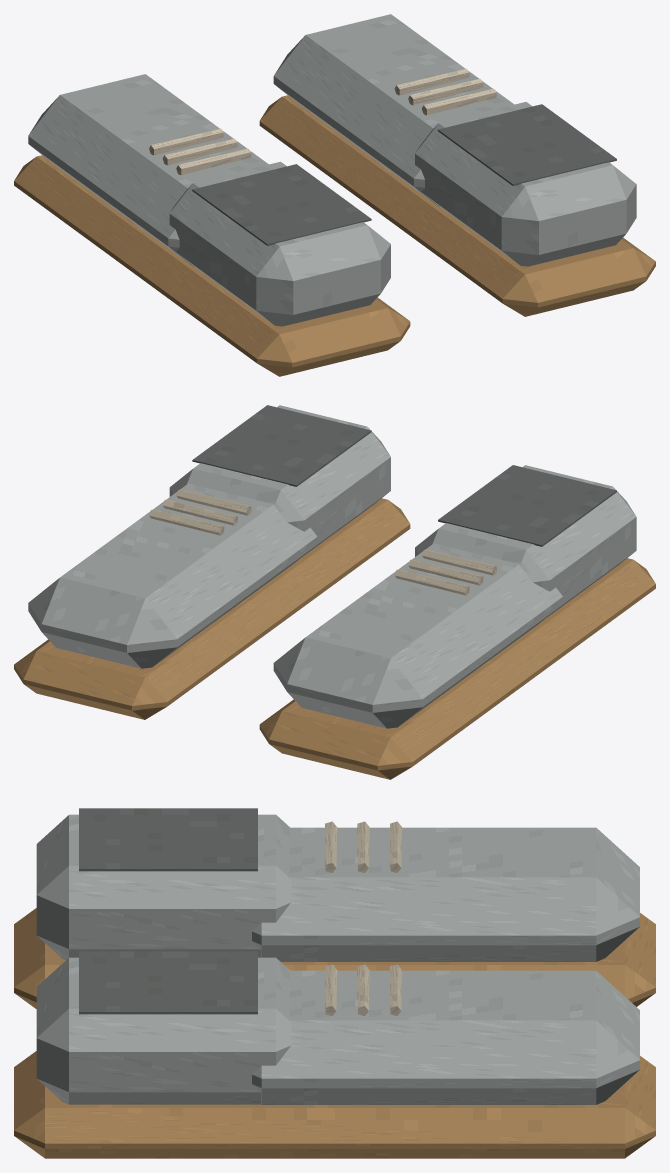
The model's file is shoes_birchbark.glb.
3 views of the same model, one above another, from view 1: azimuth 30°, elevation 25°; view 2: azimuth 150°, elevation 25°; view 3: azimuth 270°, elevation 25° (orthographic). The views are drawn at different scales.
Parts seen in each view (by area): view 1: block_shaped sole (×2), block_vamp and toe (×2), block_shaft (×2), block_opening (×2), block_lace (×6); view 2: block_vamp and toe (×2), block_shaped sole (×2), block_shaft (×2), block_opening (×2), block_lace (×6); view 3: block_vamp and toe (×2), block_shaft (×2), block_shaped sole (×2), block_opening (×2), block_lace (×6).
Boxes of the visible parts, x1,y1,x2,y2 form: block_shaped sole (×2): (14,95,655,376); block_vamp and toe (×2): (28,14,514,266); block_shaft (×2): (169,102,636,326); block_opening (×2): (192,104,616,245); block_lace (×6): (149,68,496,175); block_vamp and toe (×2): (28,483,562,728); block_shaped sole (×2): (14,498,655,779); block_shaft (×2): (169,405,636,616); block_opening (×2): (192,405,616,546); block_lace (×6): (149,489,496,595); block_vamp and toe (×2): (252,827,639,1104); block_shaft (×2): (36,814,291,1104); block_shaped sole (×2): (14,908,655,1158); block_opening (×2): (79,808,257,1014); block_lace (×6): (325,821,402,1015).
Bounding box in the file's own units: 0.1346 × 0.0392 × 0.1572.
1 material, 1 textured.
